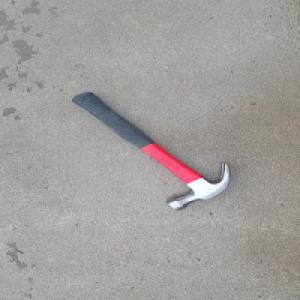Hammer: (70, 93, 231, 212)
